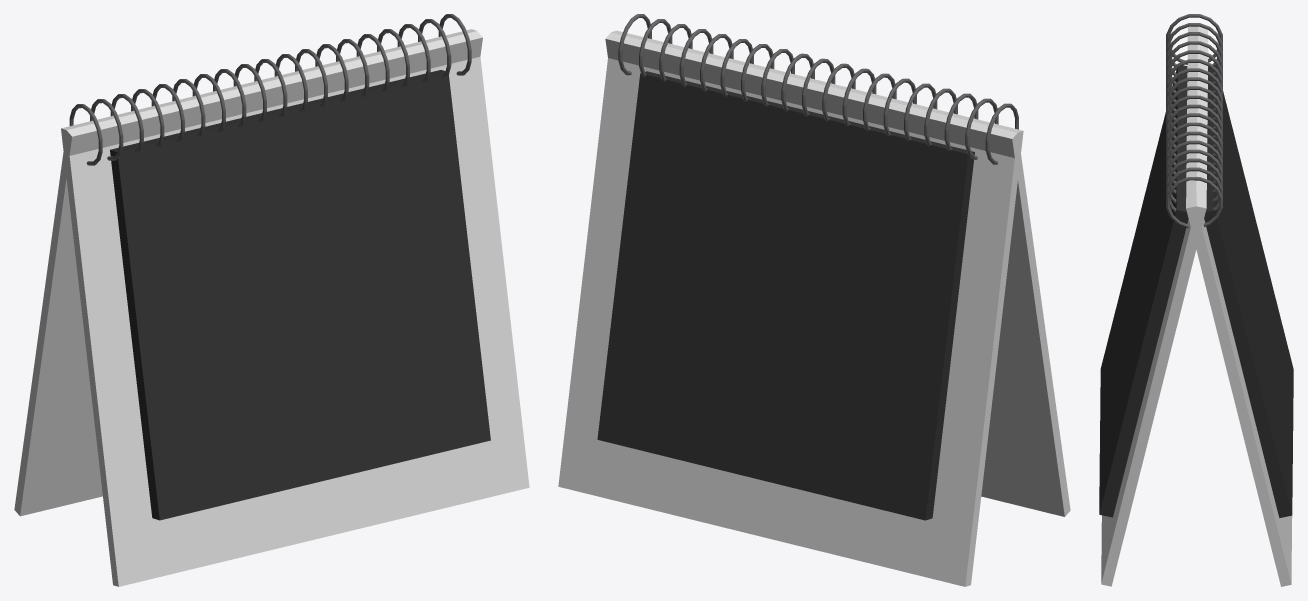
File: Calendario.fbx
3 renders of one model, left to right at view 1: azimuth 30°, elevation 25°; view 2: azimuth 150°, elevation 25°; view 3: azimuth 270°, elevation 25°, orthographic. The views are drawn at different scales.
Parts seen in each view (by area): view 1: Calendario; view 2: Calendario; view 3: Calendario.
Boxes of the visible parts, x1,y1,x2,y2 form: Calendario: [14, 14, 529, 586]; Calendario: [558, 14, 1070, 586]; Calendario: [1099, 14, 1293, 586].
Size of the model in its own units: 19.1 by 19.63 by 8.66.
